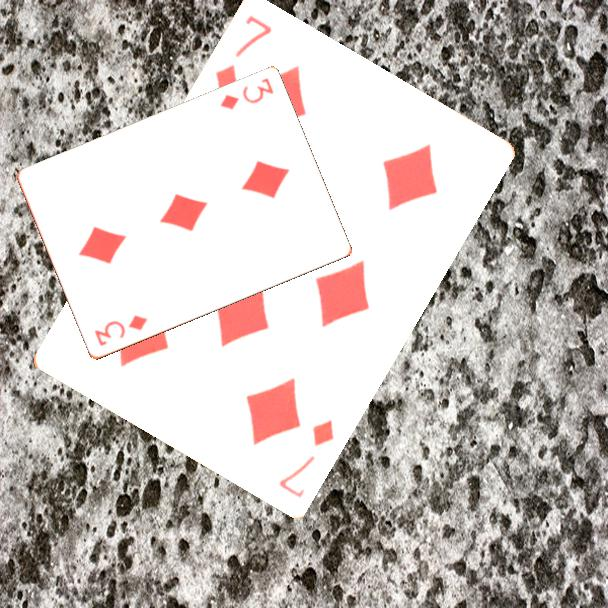d03: (216, 75, 276, 113), (91, 312, 150, 350)
d07: (212, 12, 275, 97), (275, 417, 337, 502)
